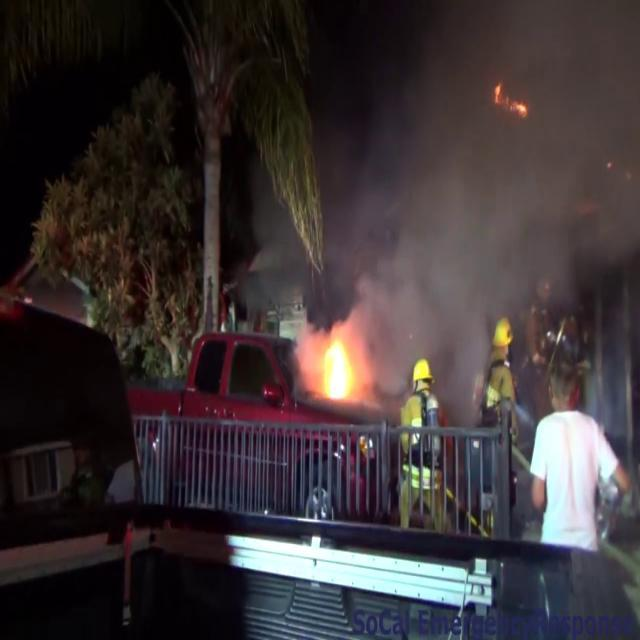Fire: (305, 321, 365, 412)
Smoke: (310, 1, 640, 338)
